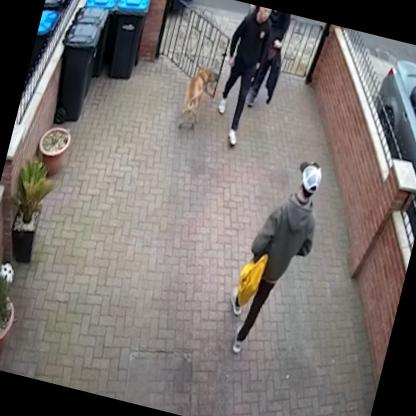Human Body: (210, 136, 338, 374), (199, 0, 282, 158)
